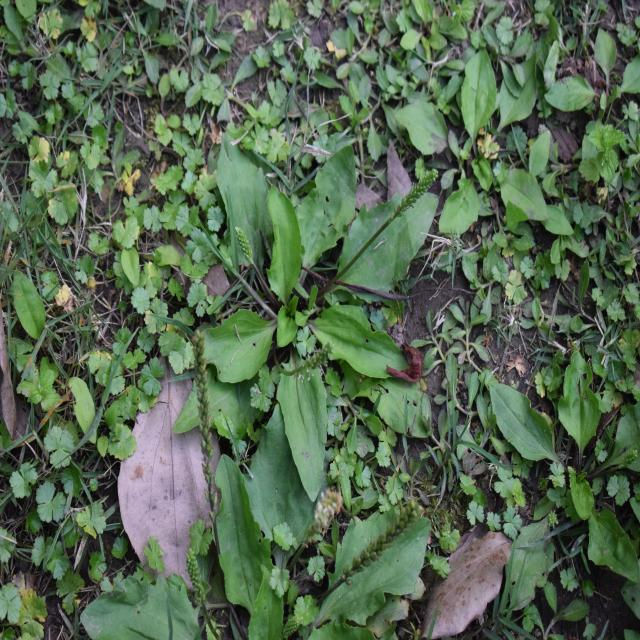plantain: (180, 145, 437, 469)
